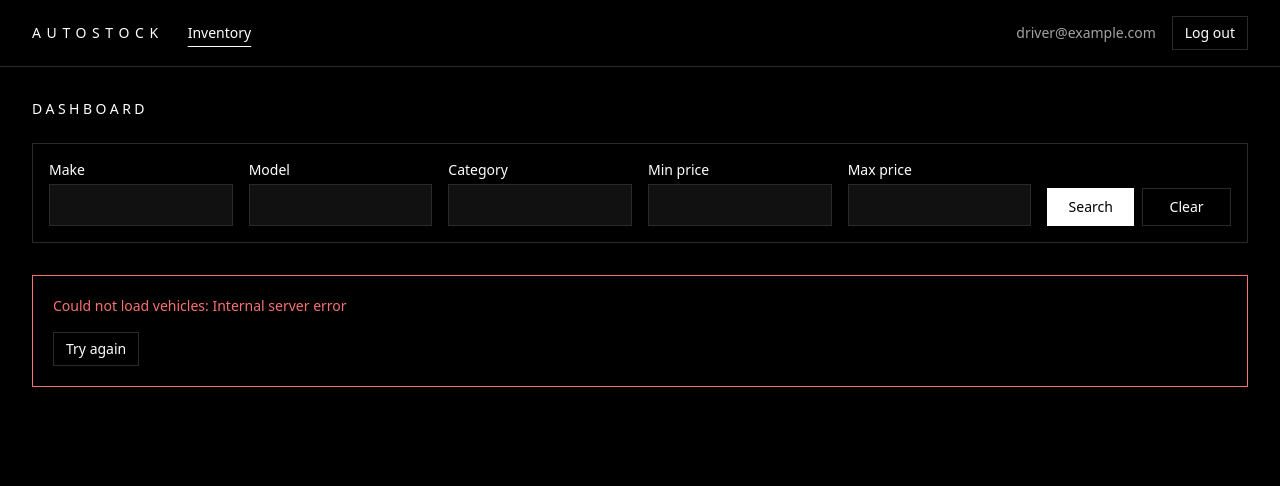
it: Vehicle dashboard › retries the request from the error state
Click the button "Try again".
click(96, 349)  # box [53,332,139,366]
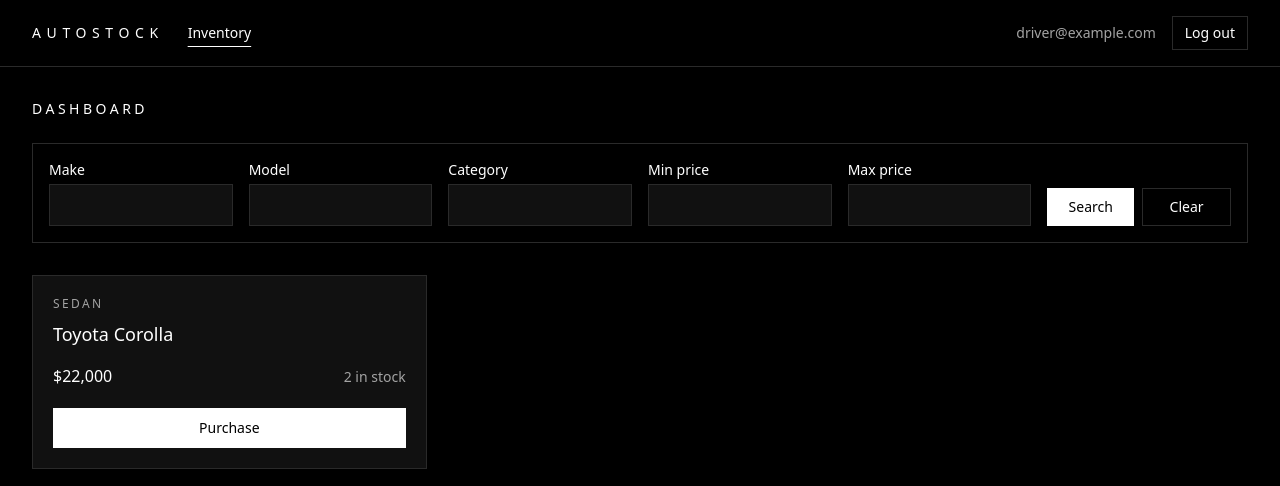
Check: the element "Toyota Corolla" is shown, box [32,275,427,469]
Check: the message "Could not load vehicles: Internal server error Try again" is gone
